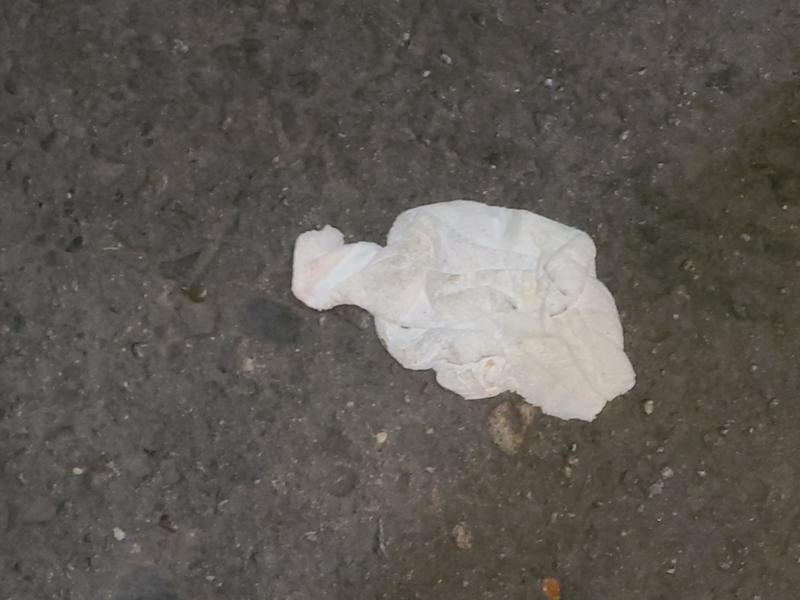papel: (292, 201, 637, 424)
